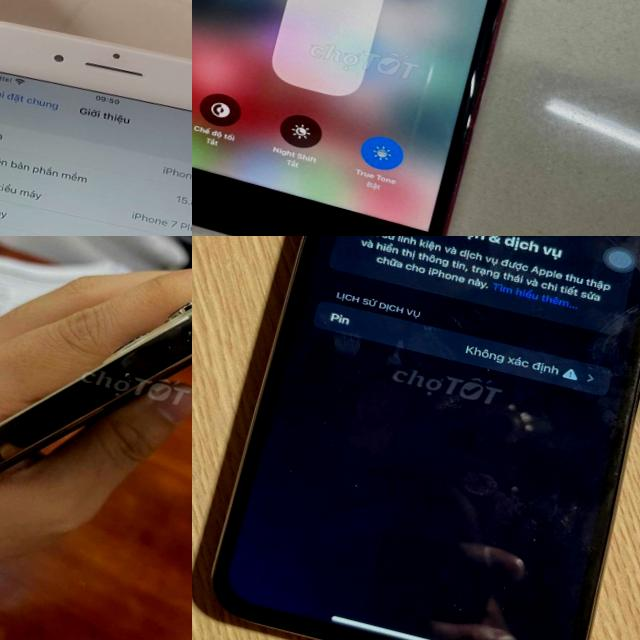scratch: (102, 293, 192, 424), (460, 567, 530, 628), (252, 372, 307, 448), (508, 522, 560, 564), (433, 584, 477, 624), (318, 364, 359, 403), (336, 468, 371, 498), (275, 459, 308, 486), (310, 414, 334, 436)
